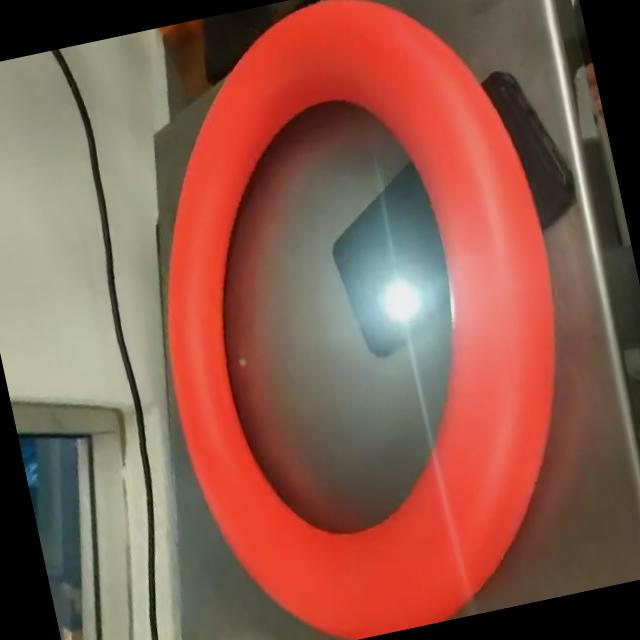note: (96, 0, 618, 640)
